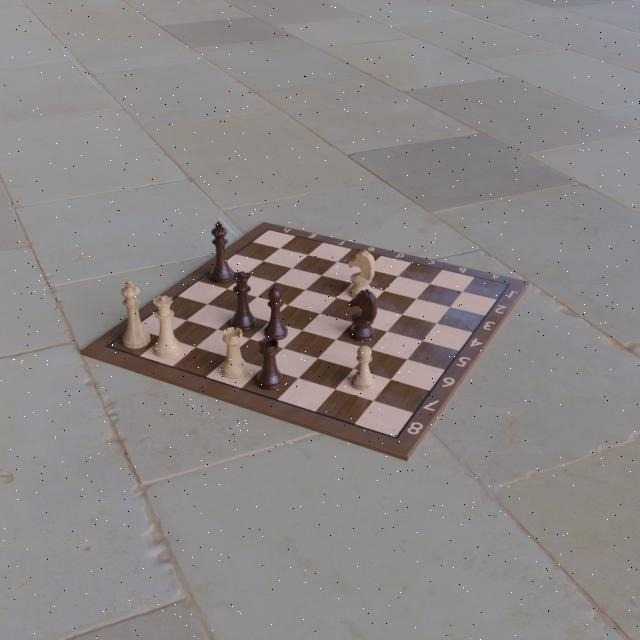black-bishop: (263, 281, 289, 339)
black-king: (209, 220, 235, 284)
black-knight: (348, 289, 378, 343)
black-queen: (230, 270, 258, 330)
black-rook: (257, 336, 282, 391)
white-king: (120, 278, 152, 349)
white-knight: (348, 248, 376, 300)
white-pawn: (350, 343, 377, 391)
white-queen: (152, 293, 183, 359)
white-rook: (220, 326, 248, 381)
